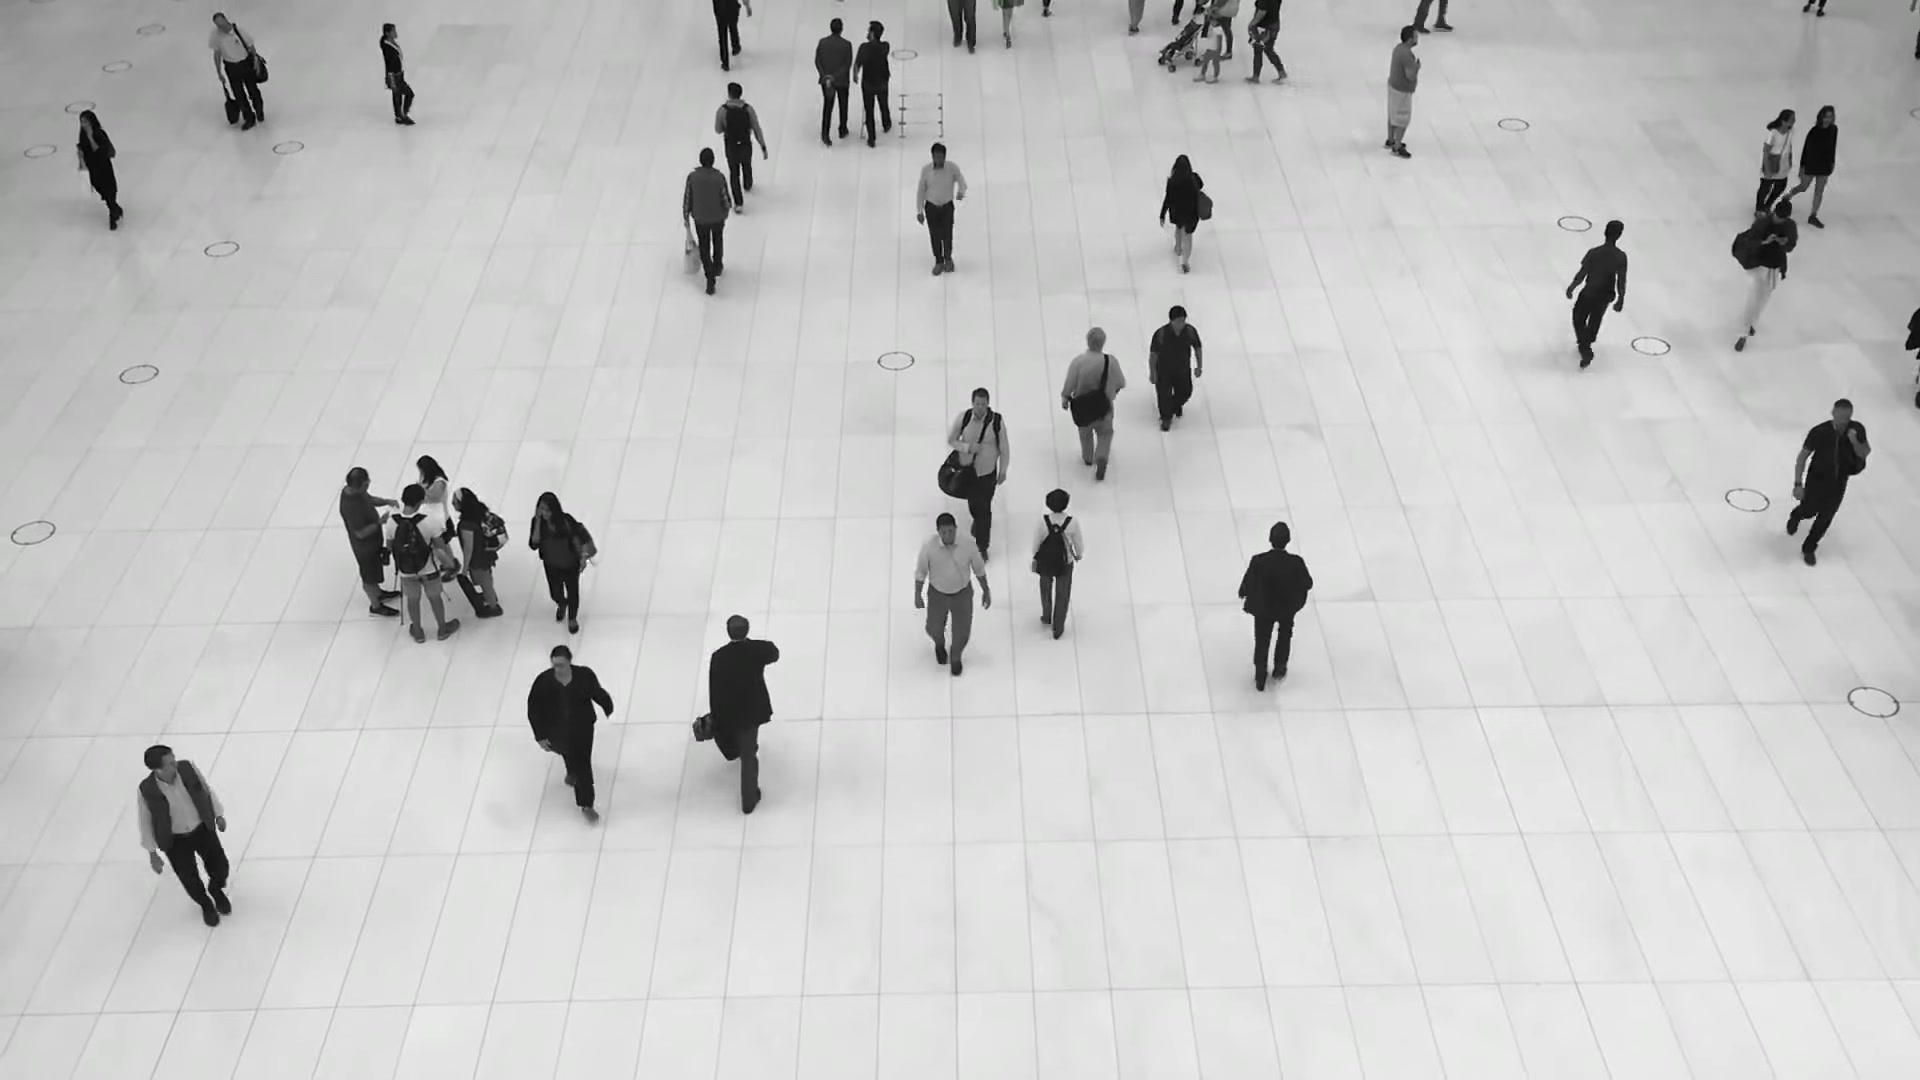person: (137, 745, 231, 932), (525, 643, 613, 822), (1786, 399, 1871, 571), (708, 612, 780, 808), (1236, 519, 1314, 686), (914, 513, 990, 679), (383, 484, 458, 644), (948, 386, 1010, 560), (527, 492, 597, 638), (1061, 326, 1125, 485), (1730, 199, 1798, 348), (339, 466, 400, 618), (1565, 219, 1626, 372), (1031, 486, 1084, 636), (681, 147, 732, 294), (1146, 305, 1203, 434), (714, 81, 767, 212), (915, 142, 967, 278), (207, 12, 264, 133), (451, 487, 503, 619), (1785, 105, 1838, 231), (1161, 153, 1212, 274), (76, 109, 123, 231), (415, 455, 459, 582), (1383, 25, 1421, 159), (813, 18, 852, 147), (853, 19, 891, 146), (1753, 108, 1796, 212), (378, 21, 415, 124), (1192, 15, 1225, 84)
